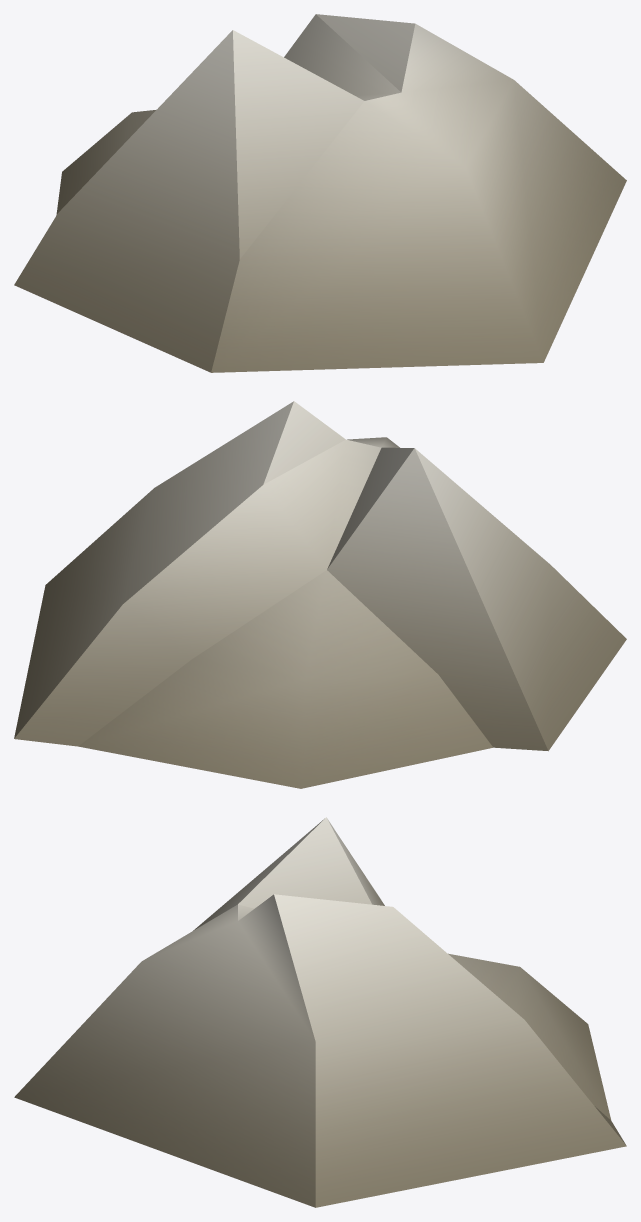
File: mountain04_mdl.FBX
3 renders of one model, top to bottom at view 1: azimuth 30°, elevation 25°; view 2: azimuth 150°, elevation 25°; view 3: azimuth 270°, elevation 25°, orthographic. The views are drawn at different scales.
Visible parts, largest first — view 1: mountain04; view 2: mountain04; view 3: mountain04.
Boxes of the visible parts, x1,y1,x2,y2 form: mountain04: (14, 14, 626, 372); mountain04: (14, 401, 626, 788); mountain04: (14, 817, 626, 1207).
Size of the model in its own units: 50.59 by 20.55 by 52.18.
Materials: 1 (1 with a texture image).
